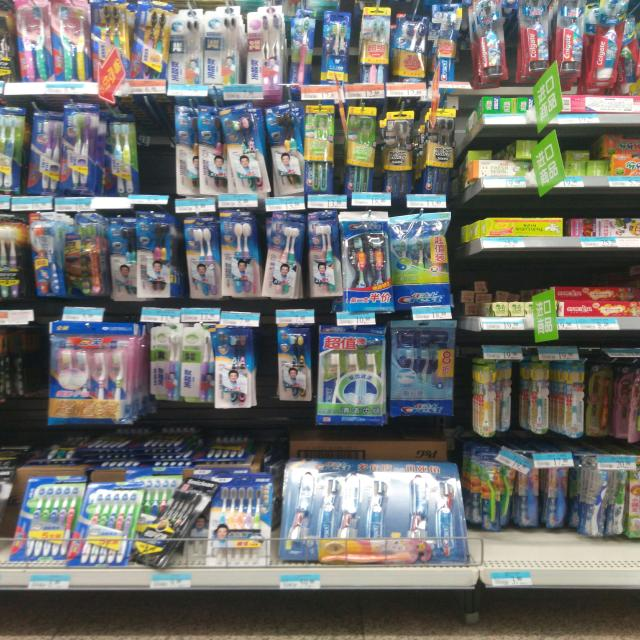unorganised: (597, 131, 640, 157), (457, 276, 496, 301), (466, 147, 497, 163)
